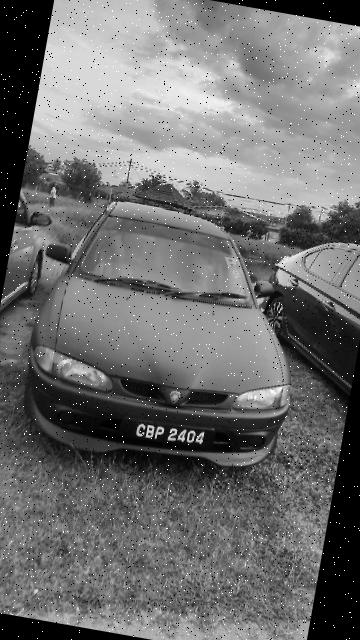License_Plate: (113, 412, 221, 460)
car: (10, 186, 319, 488)
